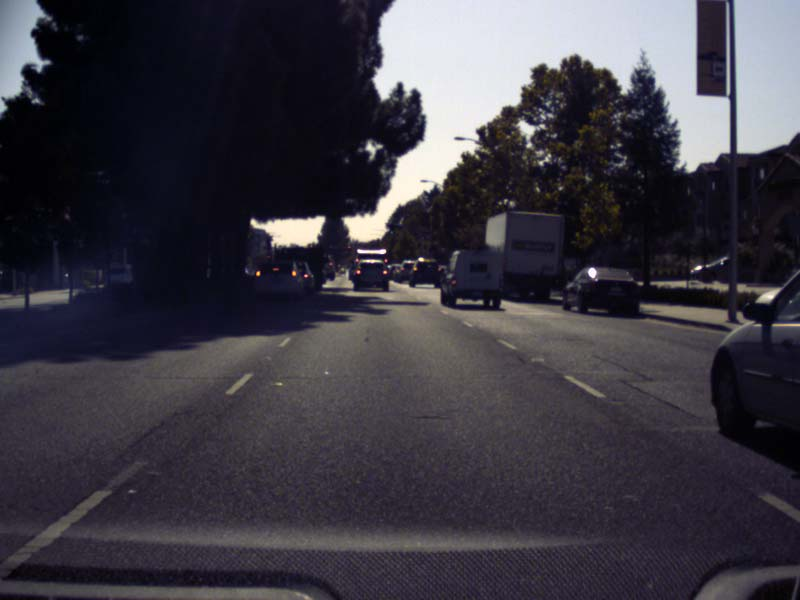Green: (387, 225, 395, 235)
Red: (344, 244, 351, 256), (307, 242, 314, 253)
Yellow: (264, 250, 273, 261)
